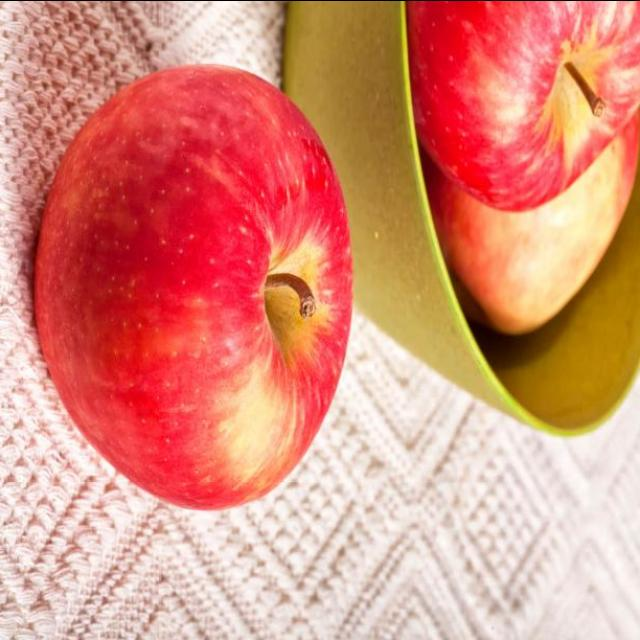apple: (29, 38, 353, 513), (422, 34, 640, 342), (399, 0, 640, 213)
